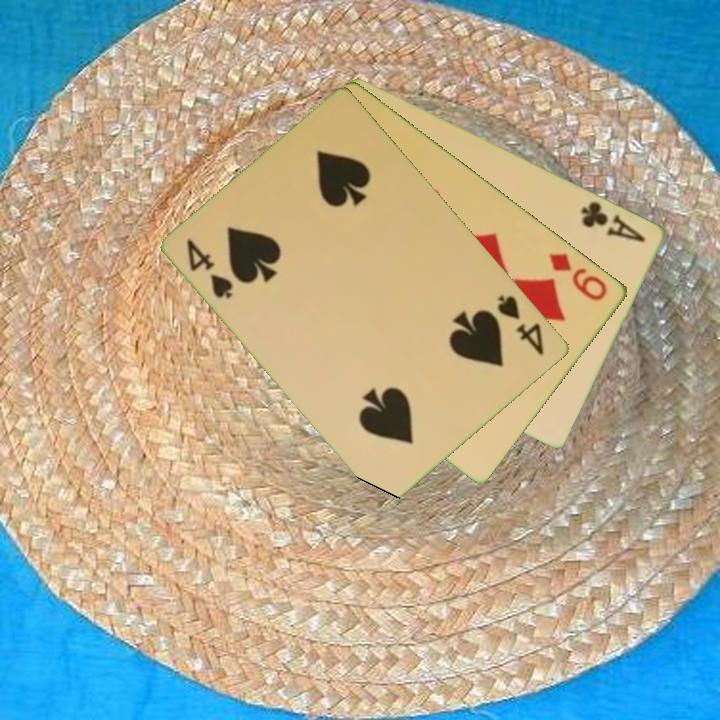4s: (494, 291, 548, 359), (183, 235, 237, 302)
9d: (546, 249, 611, 304)
Ac: (578, 197, 650, 245)
